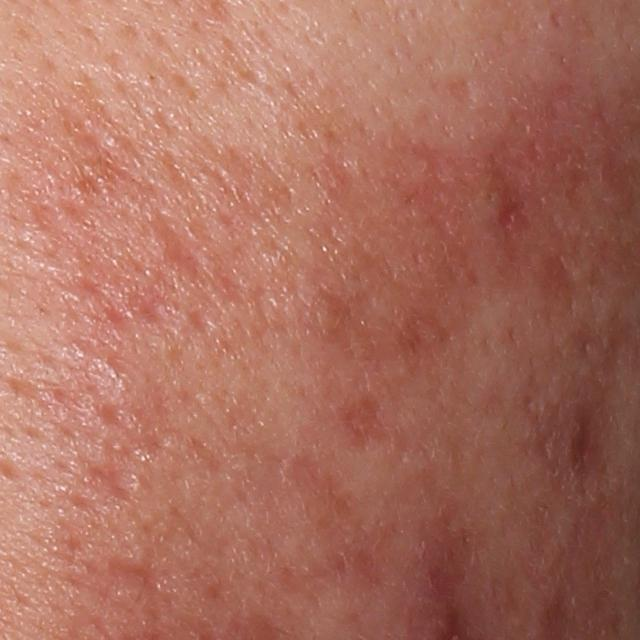atrophic_scar: (83, 403, 158, 510), (333, 392, 397, 457), (437, 70, 478, 109)
